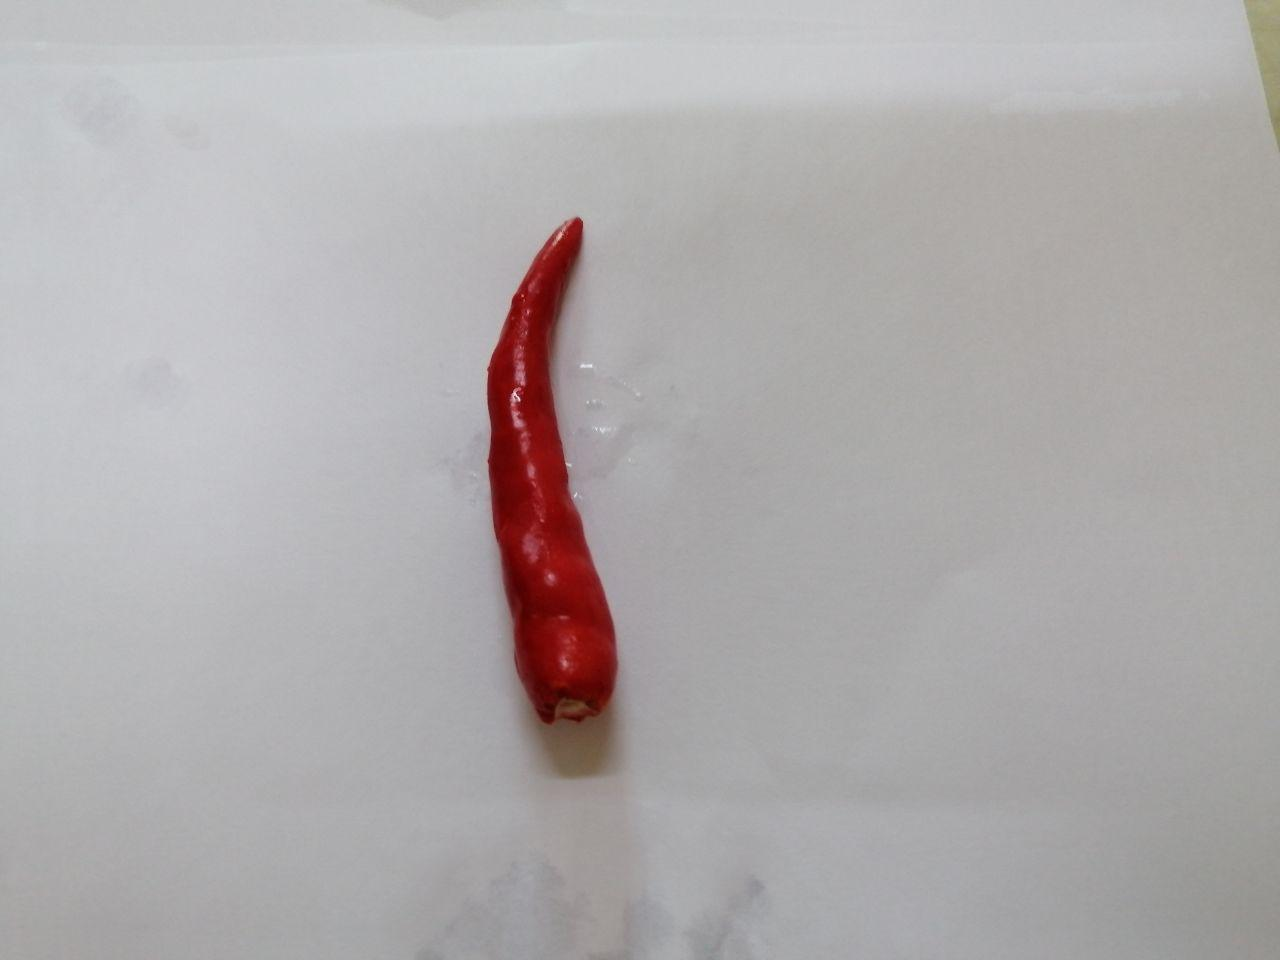lada merah: (412, 192, 652, 744)
